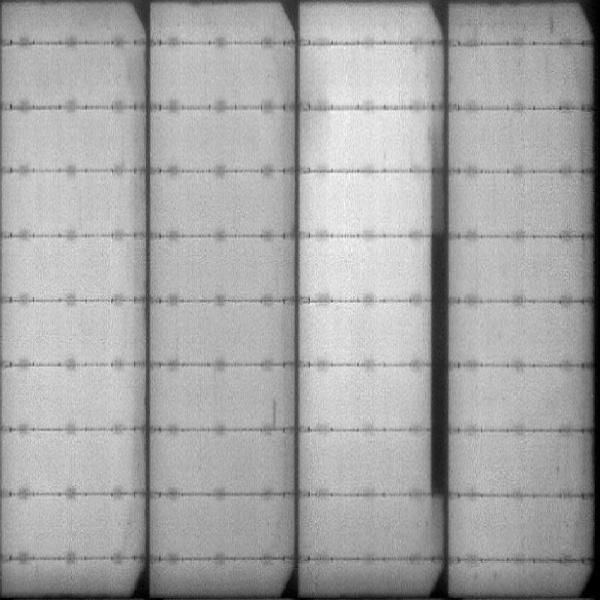black_border: (425, 143, 457, 504)
